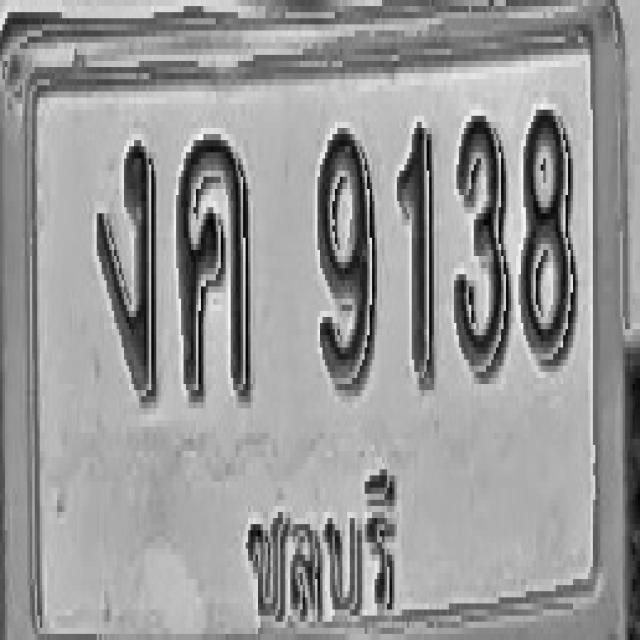1: (396, 122, 435, 390)
13KhorKhwai: (177, 131, 252, 405)
16NgorNgu: (96, 134, 158, 402)
3: (452, 110, 510, 378)
8: (520, 104, 576, 366)
9: (316, 125, 376, 393)
Chonburi: (239, 453, 408, 634)
